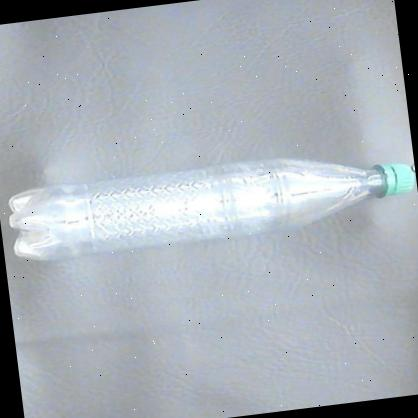bottle: (1, 138, 418, 269)
cap: (368, 156, 418, 210)
